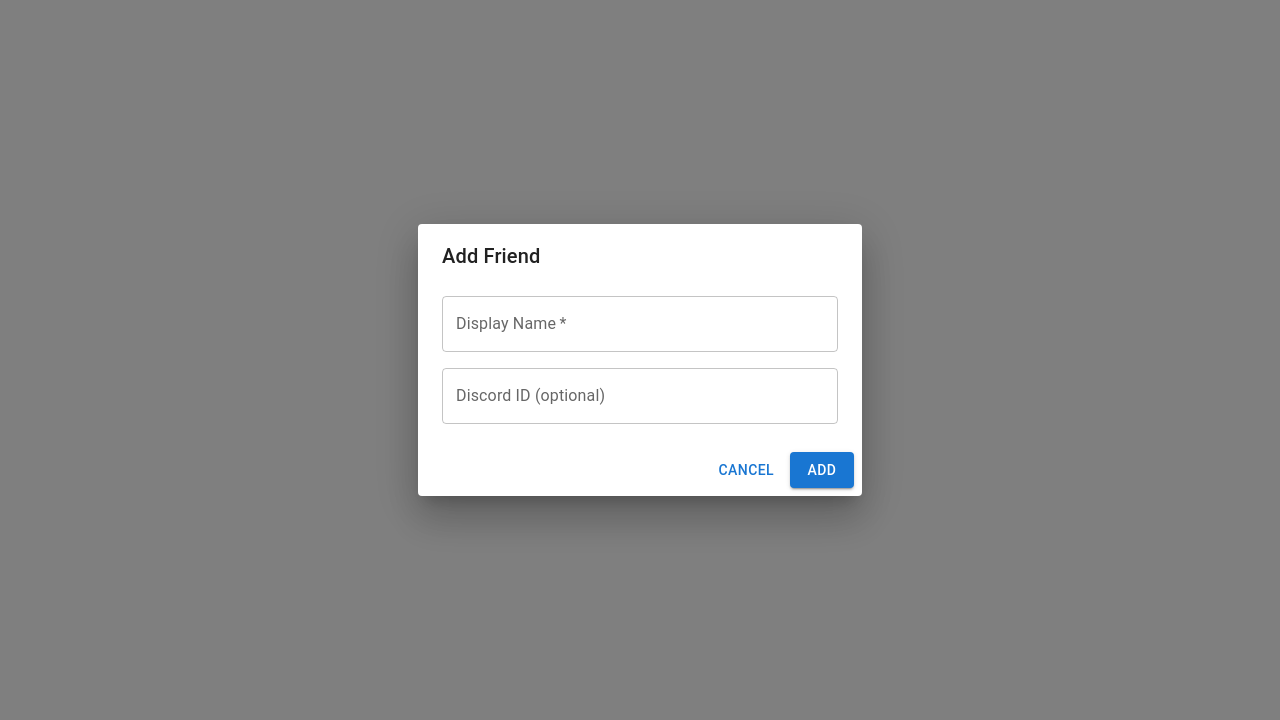
Test case: FriendFormDialog › shows validation error when display name is empty
Click the button "Add" at {"x": 822, "y": 470}, box [790,452,854,488]
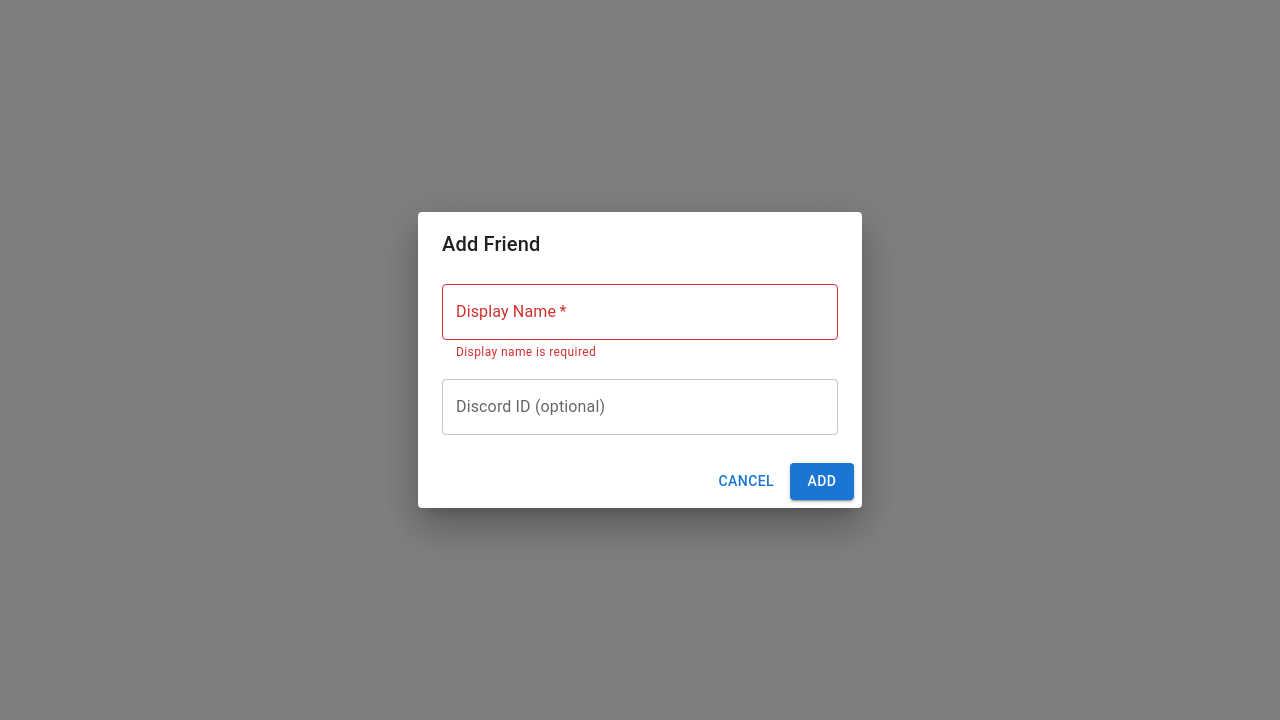
Expected: the text "Display name is required" is shown, [456,345,596,359]
